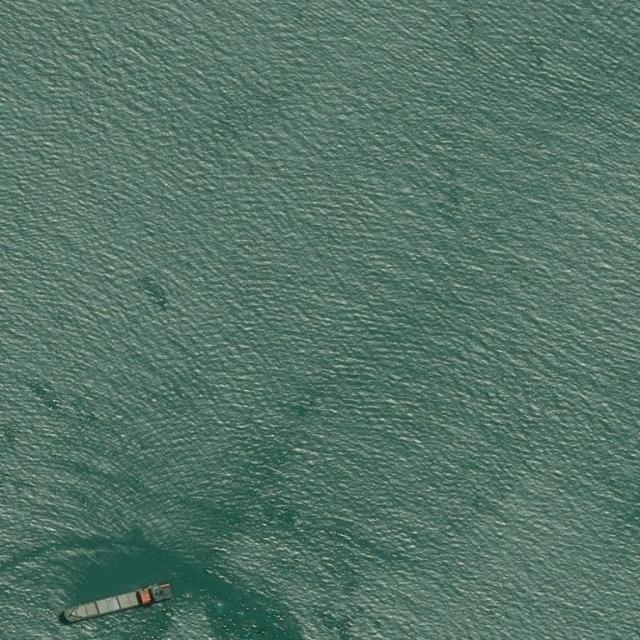Cargo: (59, 579, 177, 625)
